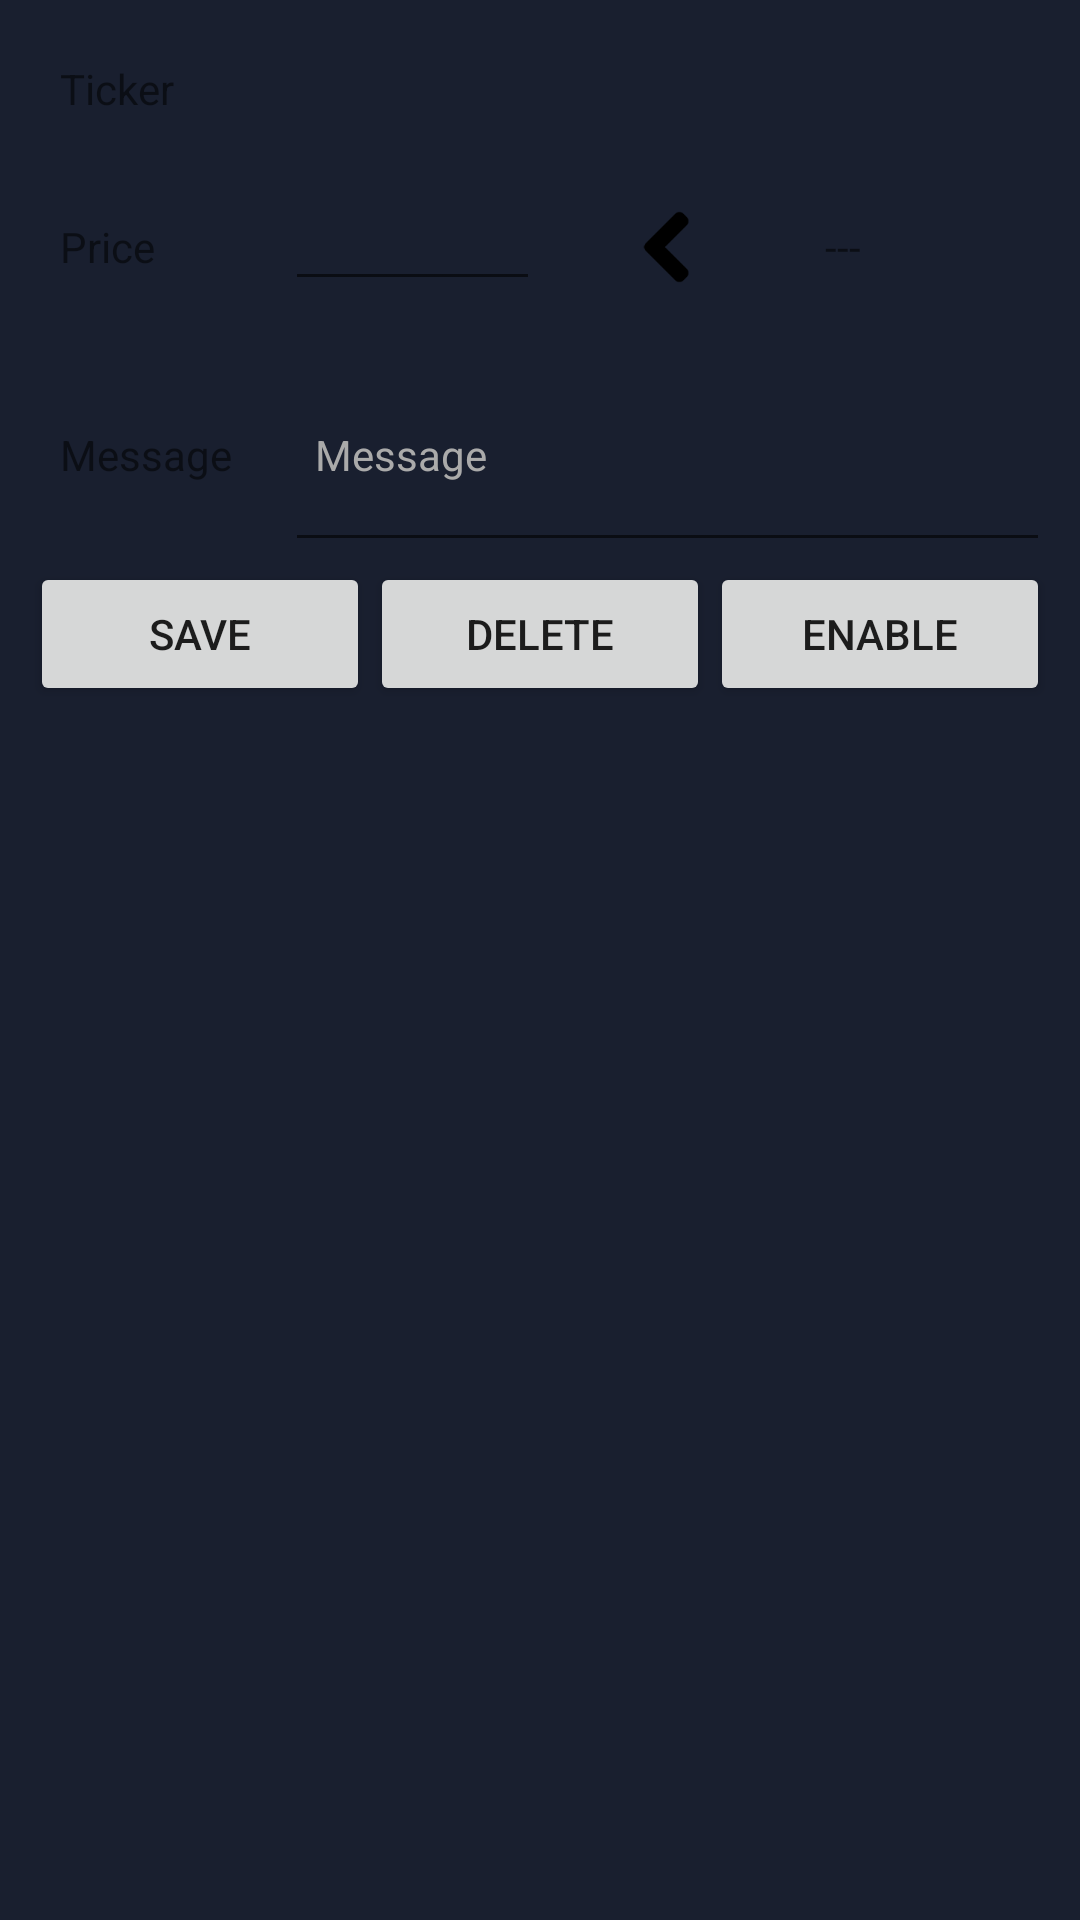

Icons on this 1080w x 1920h Android screen, each with the point to tap as [x,y]:
arrow left: [666,247]
